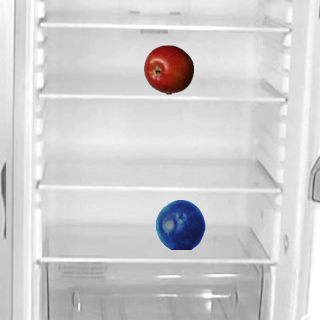Apple Braeburn: (143, 44, 193, 94)
Huckleberry: (155, 199, 205, 249)
